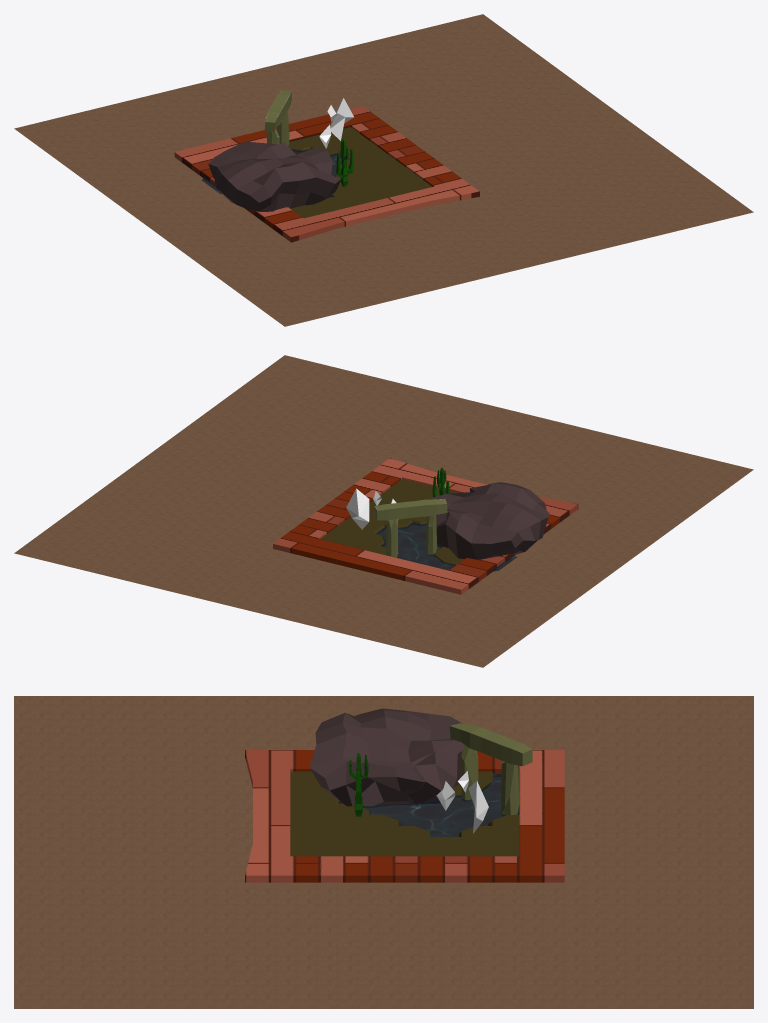
The model's file is testScene.gltf.
3 views of the same model, one above another, from view 1: azimuth 30°, elevation 25°; view 2: azimuth 150°, elevation 25°; view 3: azimuth 270°, elevation 25° (orthographic). The views are drawn at different scales.
Parts seen in each view (by area): view 1: ground, Cube, Sphere, Plane, Cube.003, Cube.001, Cube.002; view 2: ground, Cube, Sphere, Plane, Plane.001, Cube.001, Cylinder, Cube.003; view 3: ground, Cube, Sphere, Plane, Plane.001, Cube.001, Cylinder, Cube.003, Cube.002.
Boxes of the visible parts, <box> form: ground: <box>14,14,753,326</box>; Cube: <box>174,106,479,242</box>; Sphere: <box>208,141,340,211</box>; Plane: <box>288,127,431,218</box>; Cube.003: <box>319,98,353,148</box>; Cube.001: <box>264,90,291,131</box>; Cube.002: <box>336,139,353,186</box>; ground: <box>14,355,753,667</box>; Cube: <box>273,458,578,594</box>; Sphere: <box>430,482,549,559</box>; Plane: <box>320,479,463,565</box>; Plane.001: <box>376,522,516,571</box>; Cube.001: <box>374,499,447,520</box>; Cylinder: <box>386,515,437,557</box>; Cube.003: <box>346,488,398,529</box>; ground: <box>14,696,753,1008</box>; Cube: <box>245,750,564,882</box>; Sphere: <box>310,708,463,807</box>; Plane: <box>290,771,519,856</box>; Plane.001: <box>338,774,519,836</box>; Cube.001: <box>449,723,532,766</box>; Cylinder: <box>461,744,519,815</box>; Cube.003: <box>436,771,488,833</box>; Cube.002: <box>349,753,368,816</box>.
Bounding box in the file's own units: 41.92 × 5.54 × 41.92.
